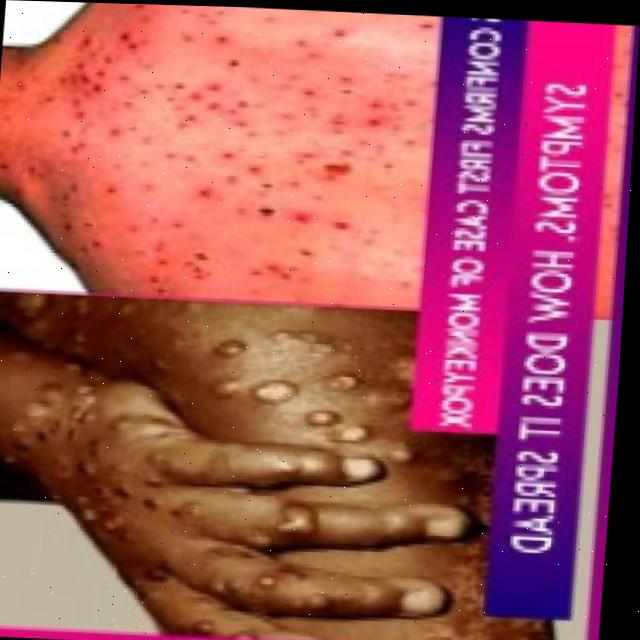Eczema: (0, 380, 453, 629), (47, 2, 398, 234)
